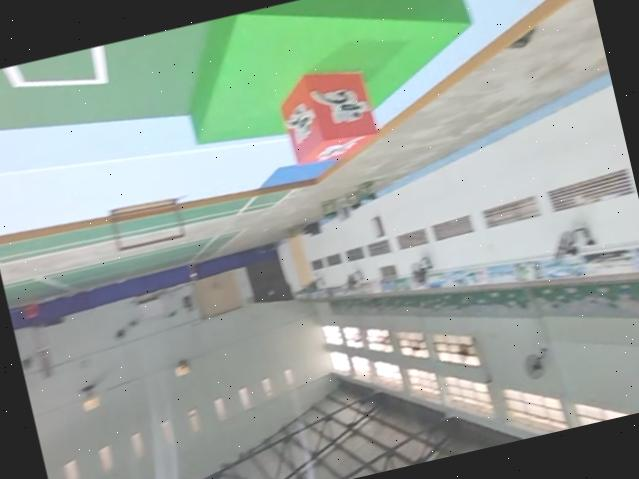R1: (269, 57, 385, 174)
